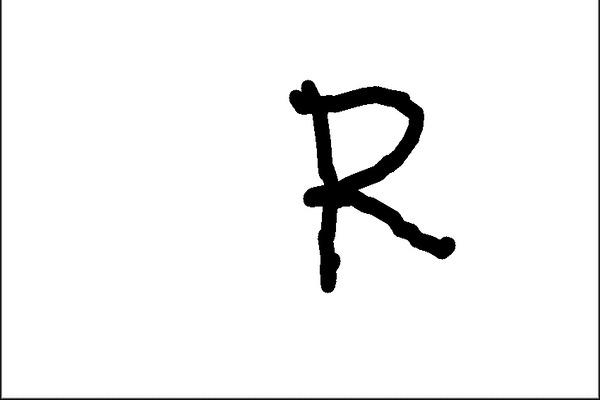R: (284, 70, 464, 297)
